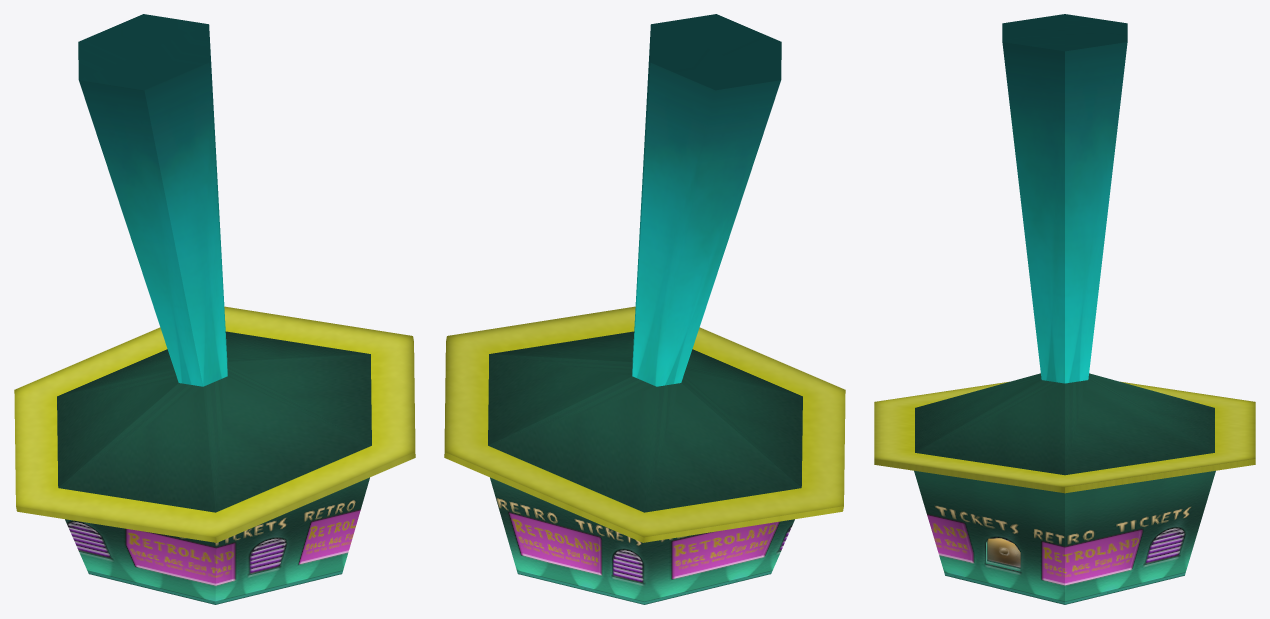
Rendered from ticketboot01.glb.
3 renders of one model, left to right at view 1: azimuth 30°, elevation 25°; view 2: azimuth 150°, elevation 25°; view 3: azimuth 270°, elevation 25°, orthographic. The views are drawn at different scales.
Visible parts, largest first — view 1: ticketboot01; view 2: ticketboot01; view 3: ticketboot01.
Part boxes in pixels (x1,y1,x2,y2): ticketboot01: (14, 14, 415, 604); ticketboot01: (444, 14, 845, 604); ticketboot01: (874, 14, 1255, 604).
Size of the model in its own units: 2345 by 2930 by 2057.
Materials: 4 (4 with a texture image).
